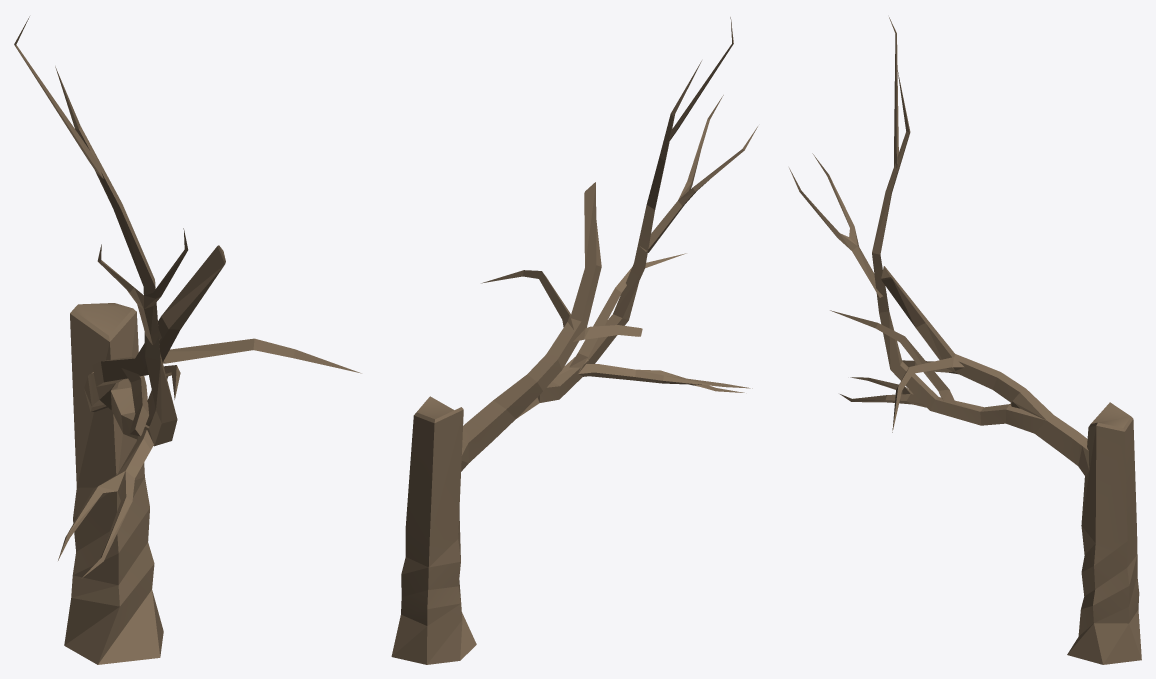
The model's file is tree_bare_a_2.FBX.
The picture shows the model from 3 angles, left to right: view 1: azimuth 30°, elevation 25°; view 2: azimuth 150°, elevation 25°; view 3: azimuth 270°, elevation 25°; orthographic projection. The views are drawn at different scales.
Visible parts, largest first — view 1: tree_bare_a_2; view 2: tree_bare_a_2; view 3: tree_bare_a_2.
Part boxes in pixels (x1=…): tree_bare_a_2: x1=14, y1=16, x2=361, y2=664; tree_bare_a_2: x1=391, y1=17, x2=757, y2=664; tree_bare_a_2: x1=789, y1=17, x2=1141, y2=664.
Size of the model in its own units: 2.12 by 4.71 by 2.73.
